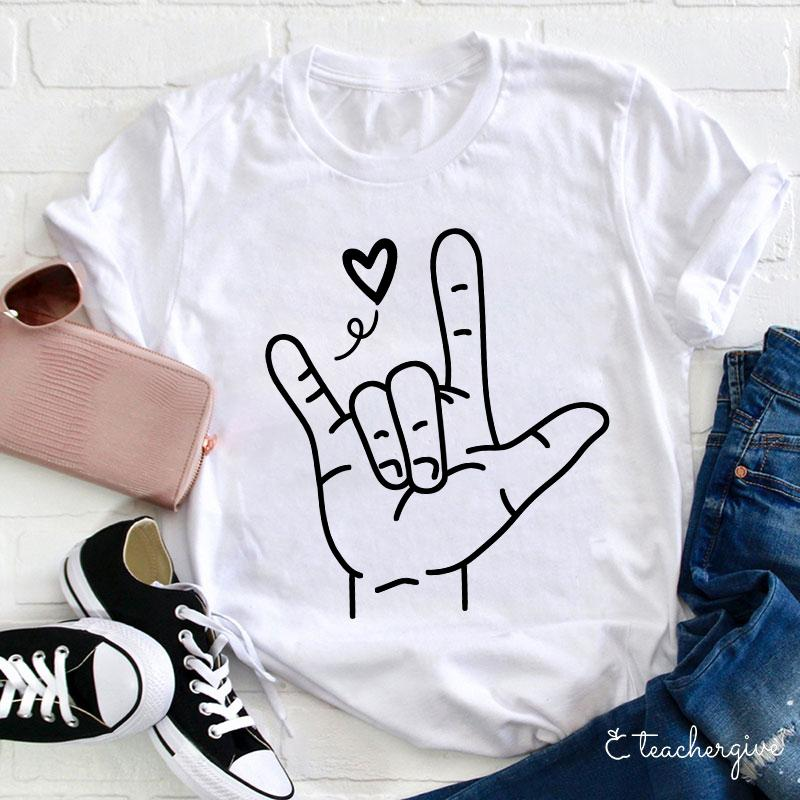Love_you: (264, 220, 625, 620)
